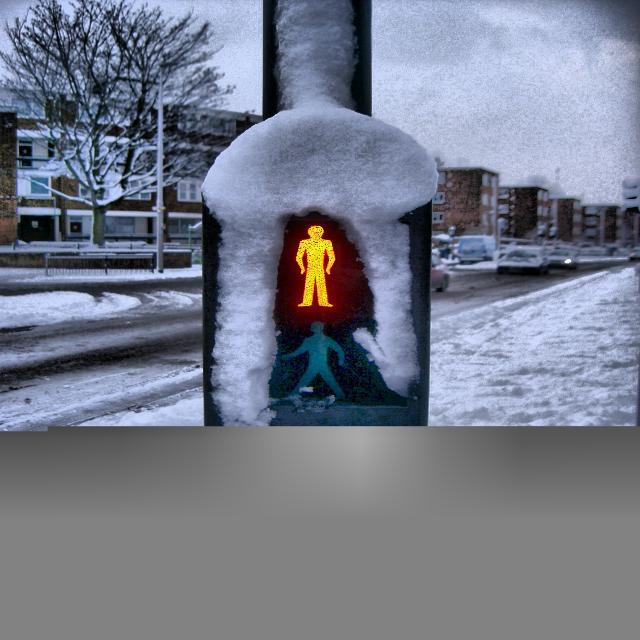red_light: (290, 224, 340, 312)
